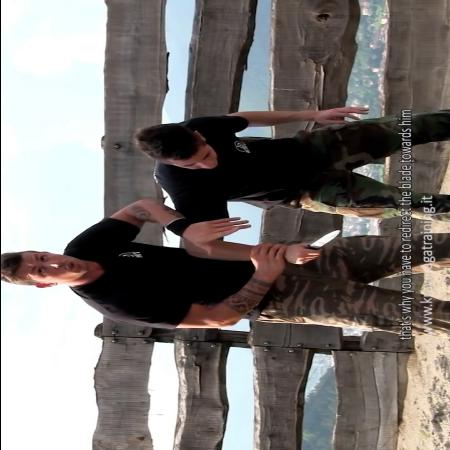long weapon: (288, 228, 344, 266)
